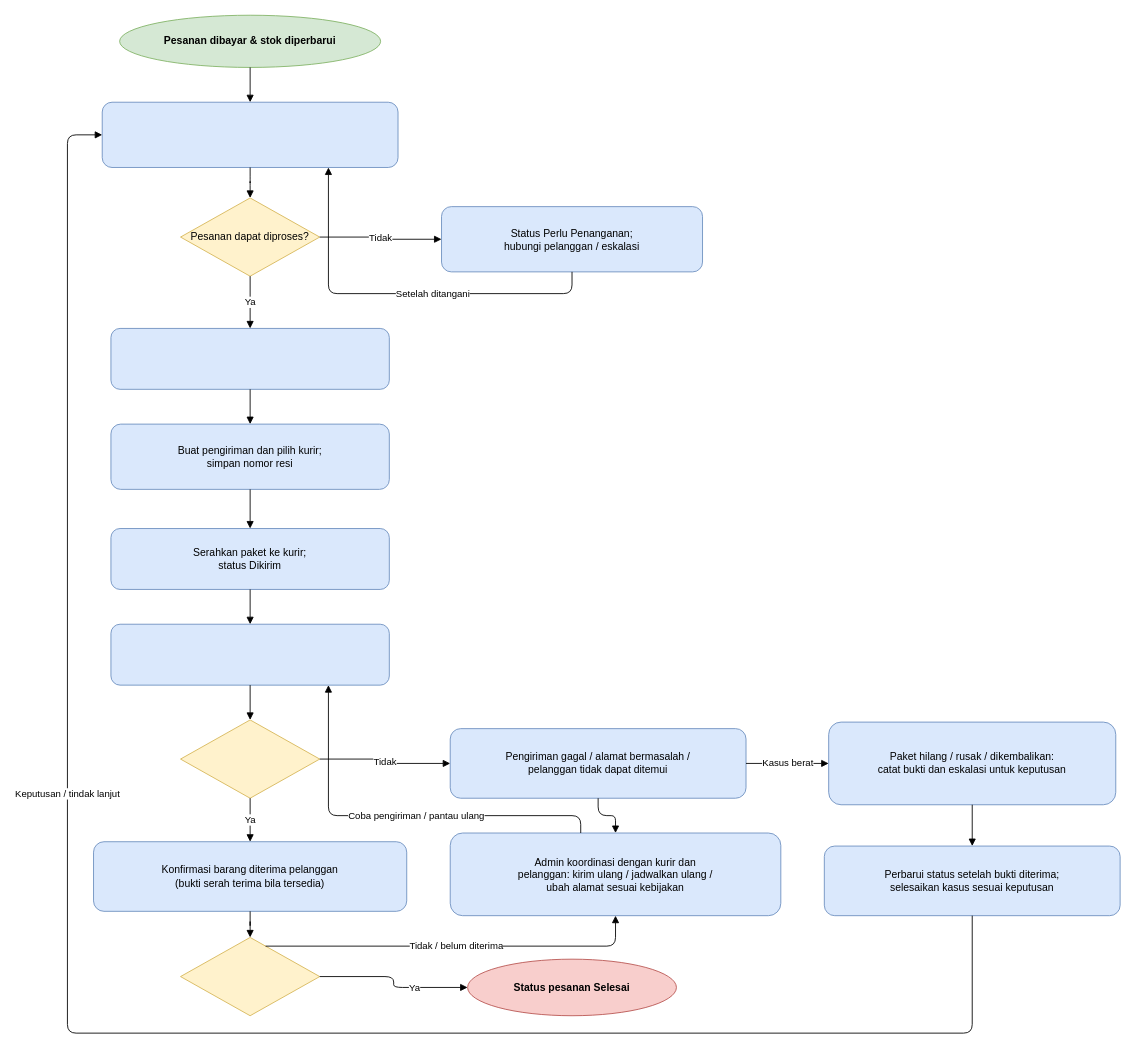
Some shapes in this 1135 by 1055 pixel diagram are drawn without their labels. Here are the shapes that lost their labels. From the top down, the centre of each, then its label:
At (x=249, y=134): "Admin memeriksa pesanan, alamat, item, dan catatan".
At (x=249, y=358): "Siapkan, kemas, dan verifikasi item".
At (x=249, y=654): "Pantau status / resi pengiriman".
At (x=250, y=758): "Kurir mengonfirmasi terkirim?".
At (x=250, y=976): "Pelanggan menerima barang?".
